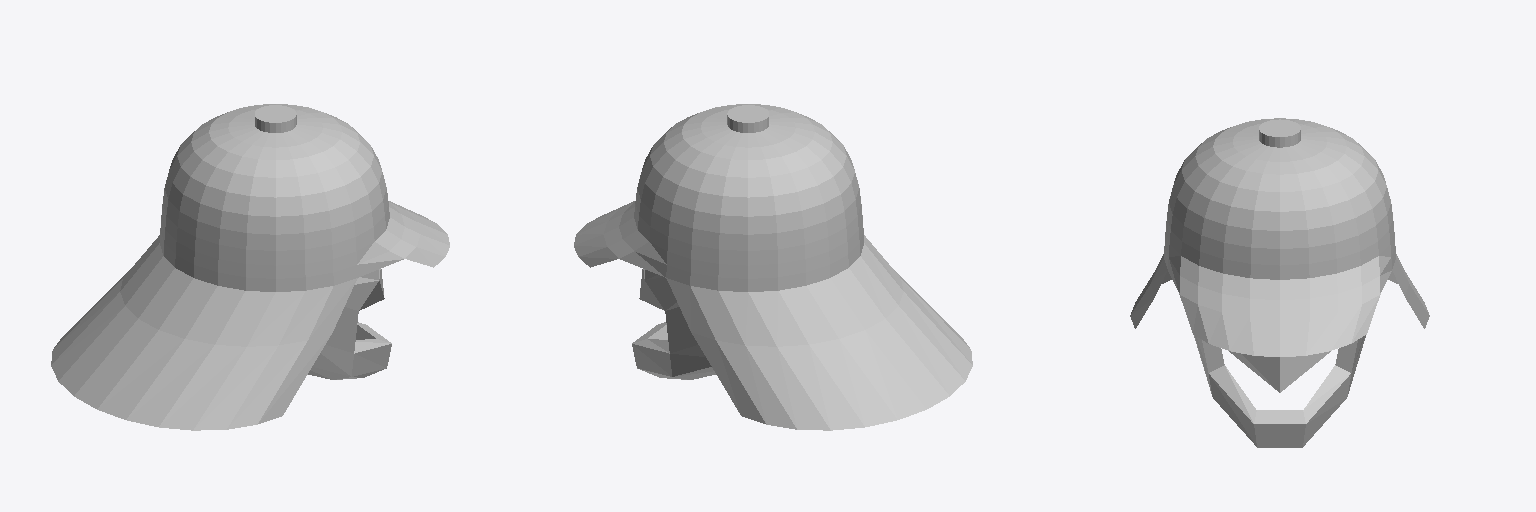
Rendered from SamuraiHelmet.obj.
3 views of the same model, side by side, from view 1: azimuth 30°, elevation 25°; view 2: azimuth 150°, elevation 25°; view 3: azimuth 270°, elevation 25° (orthographic).
Parts seen in each view (by area): view 1: loftedSurface1, pCube1; view 2: loftedSurface1, pCube1; view 3: loftedSurface1, pCube1.
Boxes of the visible parts, box(x1,y1,x2,y2) form: loftedSurface1: box(51, 104, 449, 430); pCube1: box(217, 269, 391, 379); loftedSurface1: box(574, 104, 972, 430); pCube1: box(632, 269, 777, 379); loftedSurface1: box(1130, 118, 1429, 356); pCube1: box(1194, 335, 1365, 447).
Size of the model in its own units: 10.22 by 7.35 by 7.28.